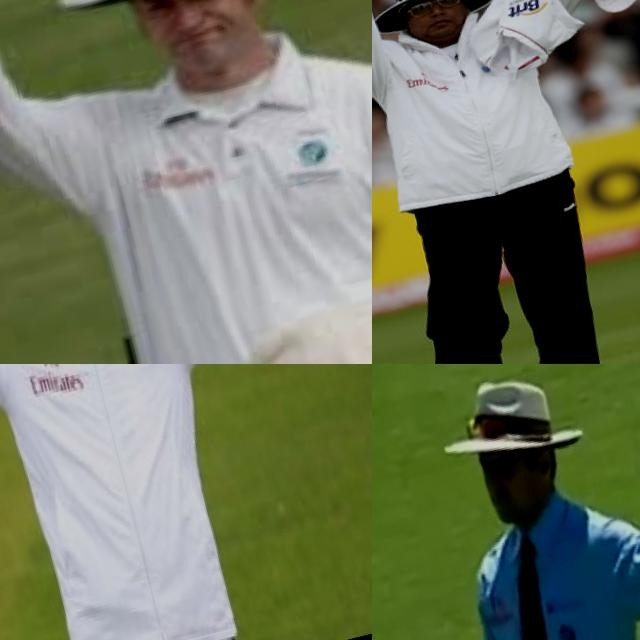No_Ball: (372, 364, 640, 640)
Out: (0, 0, 372, 364)
Six: (372, 0, 640, 364)
Wide: (0, 364, 372, 640)
